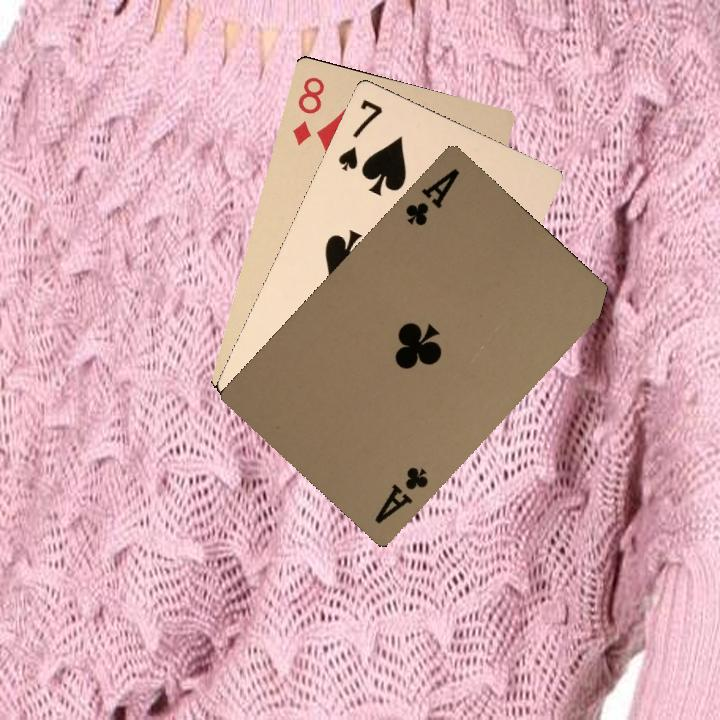7s: (334, 95, 386, 173)
8d: (288, 73, 327, 148)
Ac: (370, 462, 433, 527), (401, 164, 463, 229)
